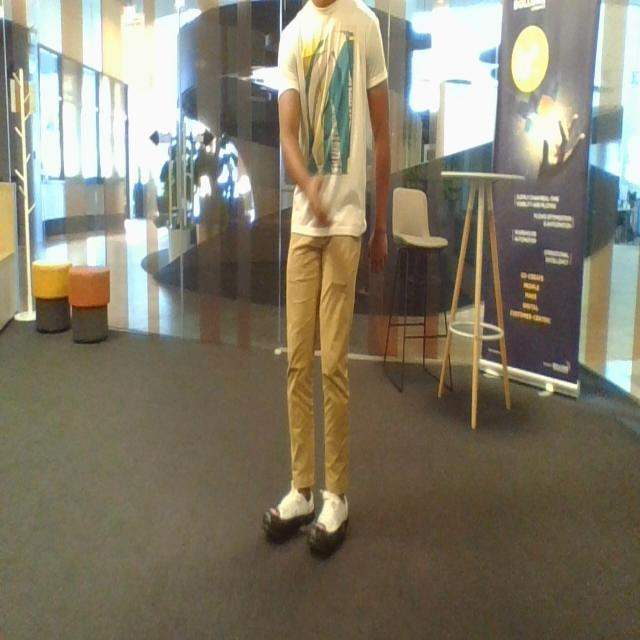shoes: (298, 484, 358, 558), (256, 481, 319, 542)
